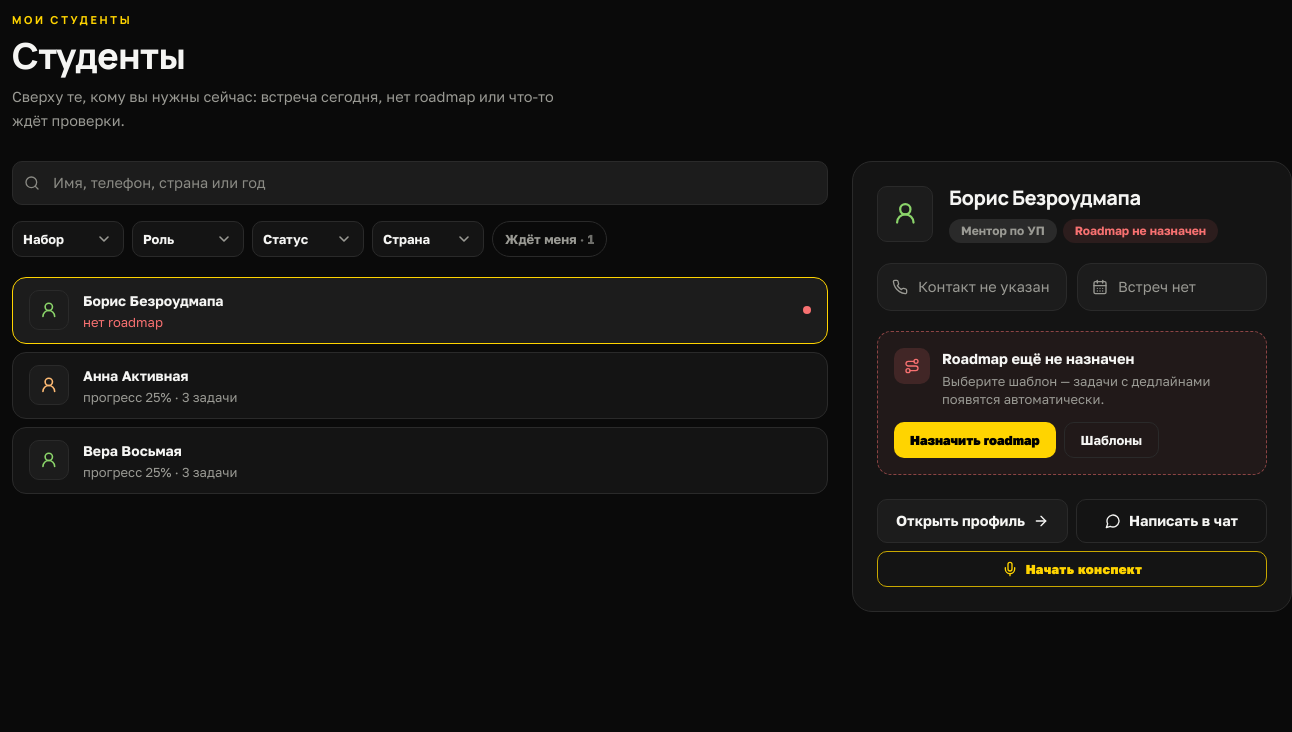
Scenario: фильтр по набору сверху: выбор сужает список, у вариантов есть счётчики
Select "Набор 2027 · 1" in the dropdown named "Набор" at x=68, y=238, box [12,220,124,256]
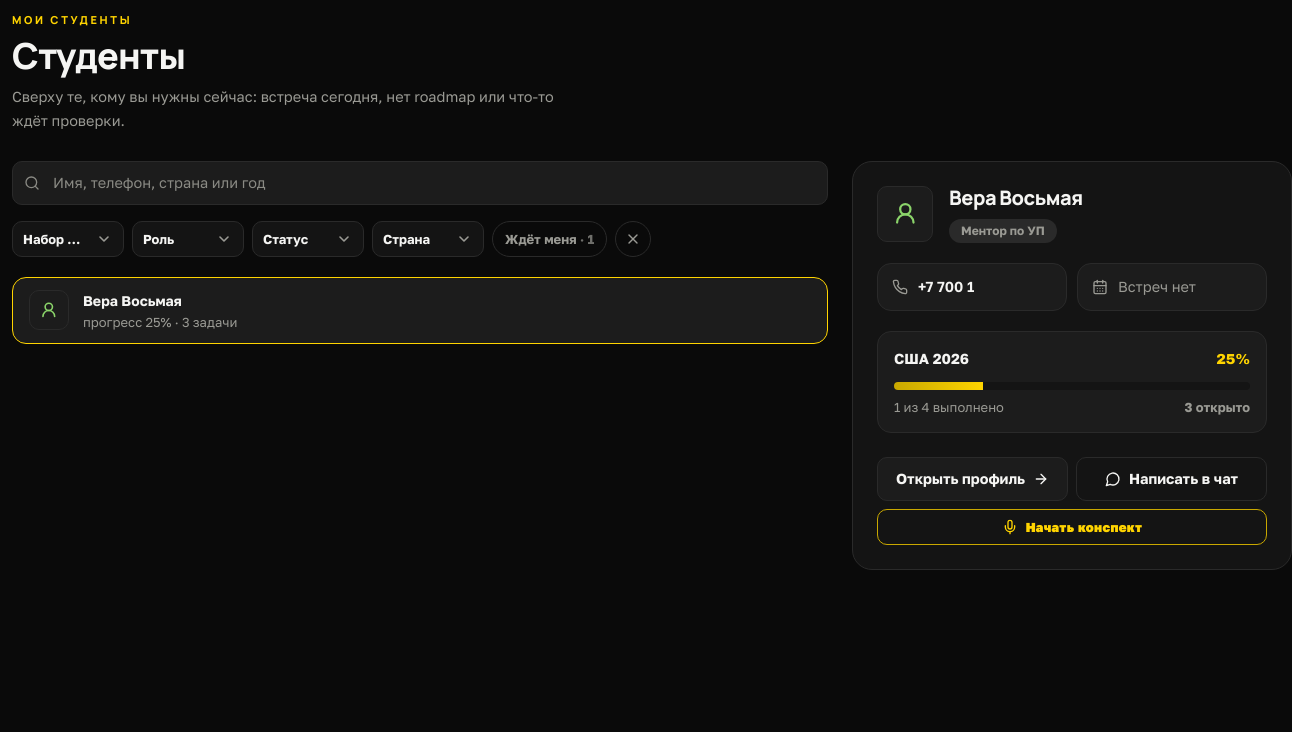
Check: the text "Вера Восьмая" is shown, box [83,292,182,308]
Check: the button "Анна Активная" is gone
Click the button named "Сбросить".
click(633, 238)  # box [615,220,651,256]
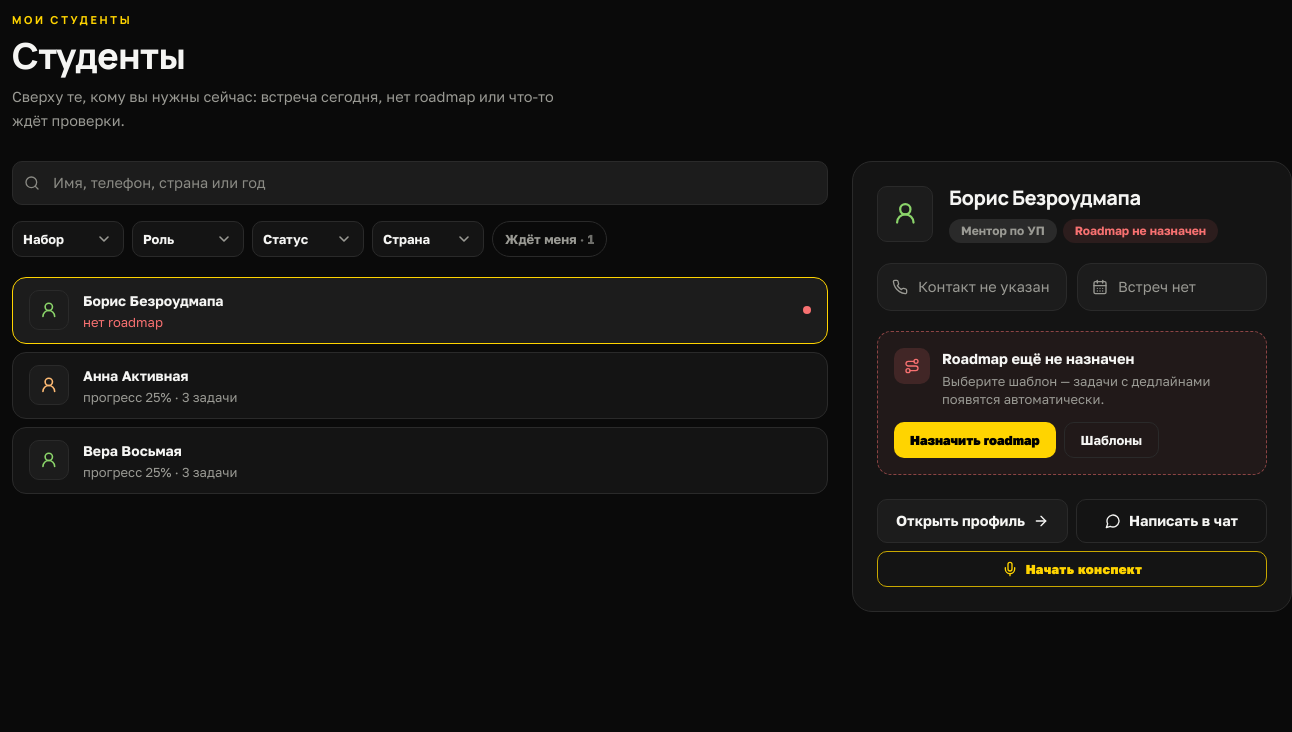
Check: the text "Анна Активная" is shown, box [83,366,188,384]
